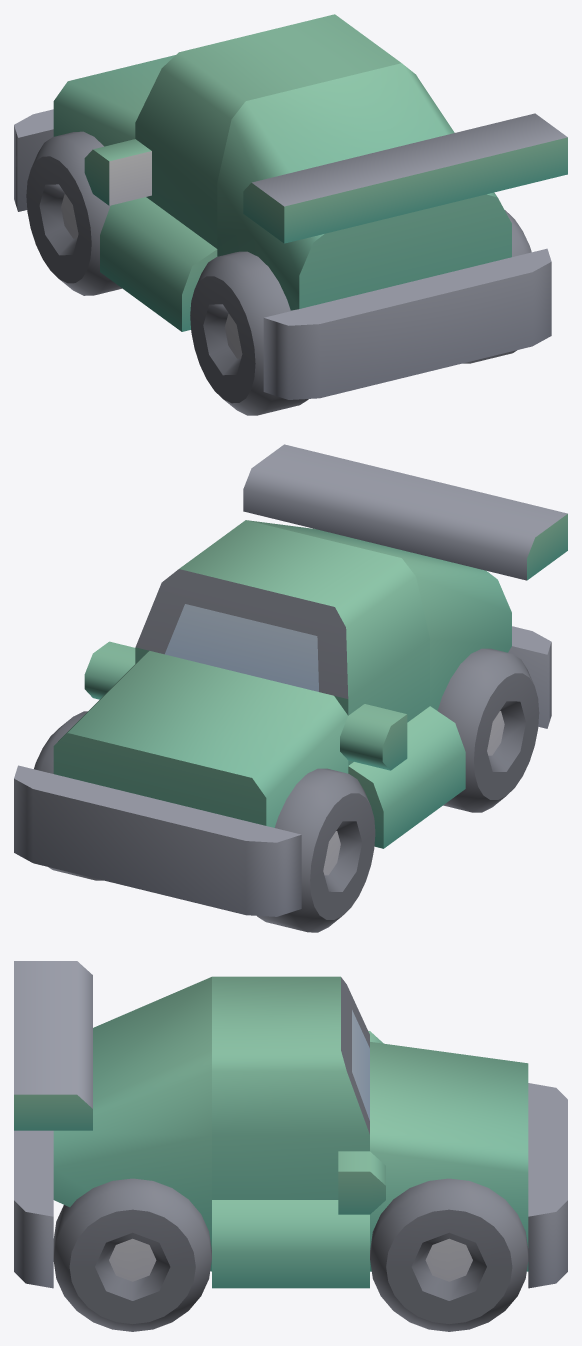
File: toy_car_a.glb
The picture shows the model from 3 angles, top to bottom: view 1: azimuth 30°, elevation 25°; view 2: azimuth 150°, elevation 25°; view 3: azimuth 270°, elevation 25°; orthographic projection. The views are drawn at different scales.
Visible parts, largest first — view 1: toy_car_a; view 2: toy_car_a; view 3: toy_car_a.
Part boxes in pixels (<box>): toy_car_a: <box>14,14,567,415</box>; toy_car_a: <box>14,444,567,932</box>; toy_car_a: <box>14,961,567,1331</box>.
Bounding box in the file's own units: 10.8 × 9.26 × 18.
